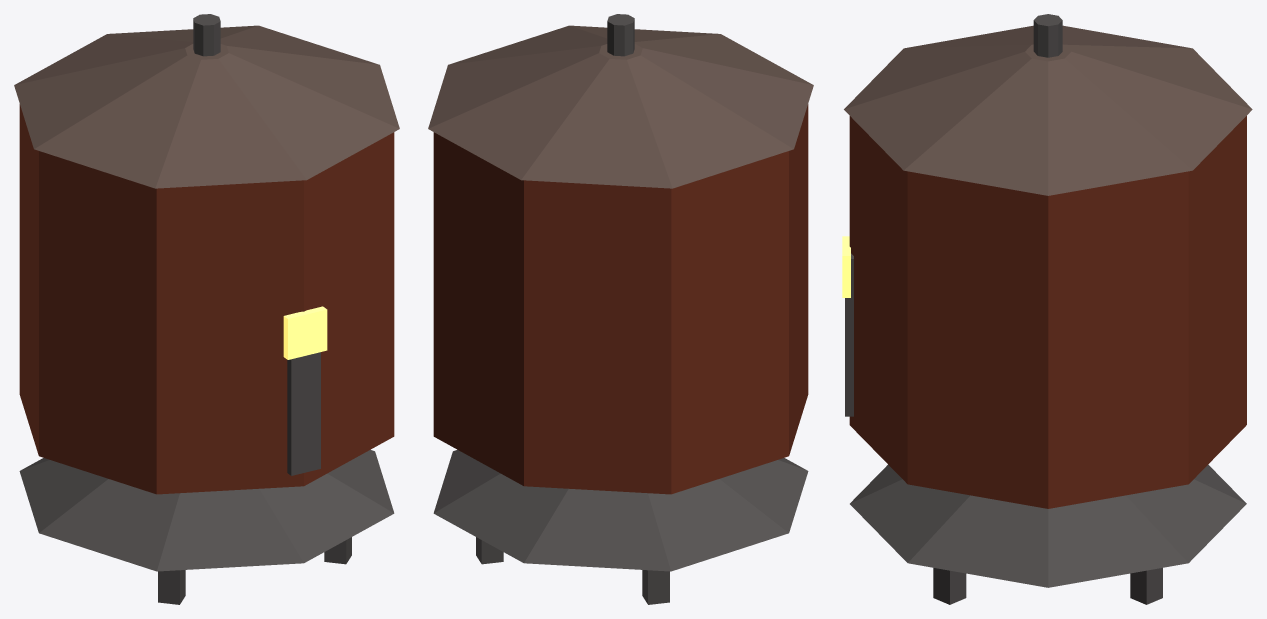
File: ore_tank_1_kiln.glb
3 views of the same model, side by side, from view 1: azimuth 30°, elevation 25°; view 2: azimuth 150°, elevation 25°; view 3: azimuth 270°, elevation 25° (orthographic). The views are drawn at different scales.
Parts seen in each view (by area): view 1: Cylinder, Cone.001, Cone, Cube.005, Cube.004, Cylinder.001, Cube.002, Cube.003; view 2: Cylinder, Cone.001, Cone, Cylinder.001, Cube.001, Cube; view 3: Cylinder, Cone.001, Cone, Cylinder.001, Cube.005, Cube.003, Cube, Cube.004.
Boxes of the visible parts, <box> form: Cylinder: <box>19,104,394,494</box>; Cone.001: <box>14,25,399,188</box>; Cone: <box>19,450,394,571</box>; Cube.005: <box>287,352,320,475</box>; Cube.004: <box>283,306,327,359</box>; Cylinder.001: <box>193,14,220,56</box>; Cube.002: <box>158,570,185,604</box>; Cube.003: <box>324,537,351,564</box>; Cylinder: <box>433,104,808,494</box>; Cone.001: <box>428,25,813,188</box>; Cone: <box>433,450,808,571</box>; Cylinder.001: <box>607,14,634,56</box>; Cube.001: <box>642,570,669,604</box>; Cube: <box>476,537,503,564</box>; Cylinder: <box>849,116,1246,508</box>; Cone.001: <box>844,25,1252,195</box>; Cone: <box>850,464,1246,587</box>; Cylinder.001: <box>1033,14,1062,57</box>; Cube.005: <box>845,253,853,416</box>; Cube.003: <box>933,568,966,604</box>; Cube: <box>1130,568,1162,604</box>; Cube.004: <box>842,236,850,297</box>.
Bounding box in the file's own units: 14.1 × 20.4 × 14.15.
